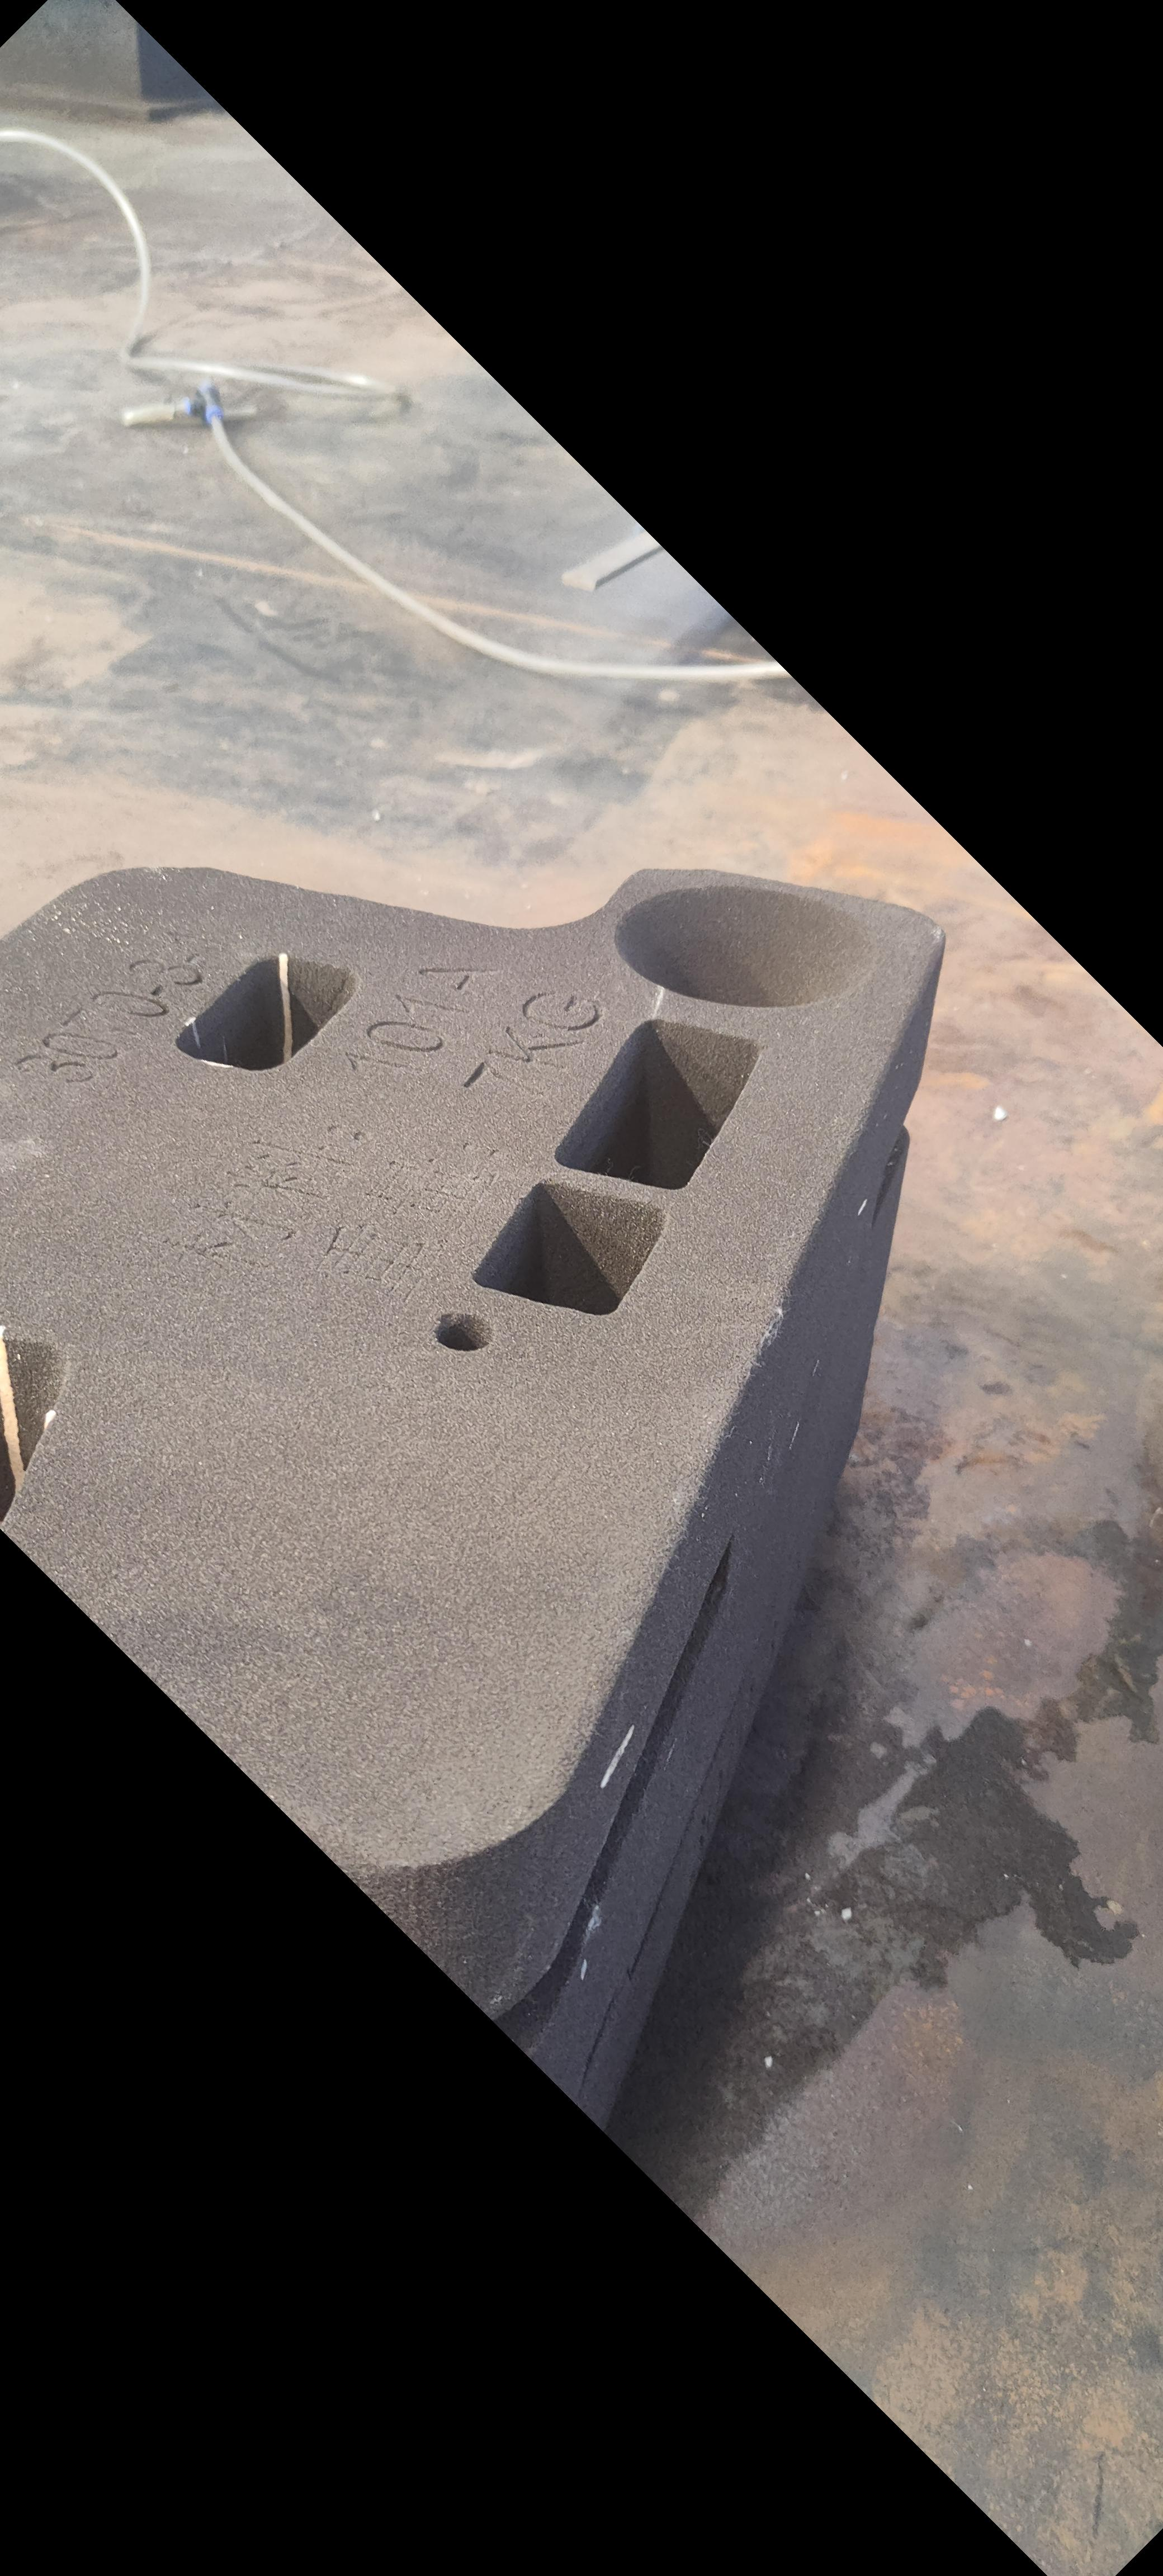pouring hole: (613, 885, 876, 1009)
